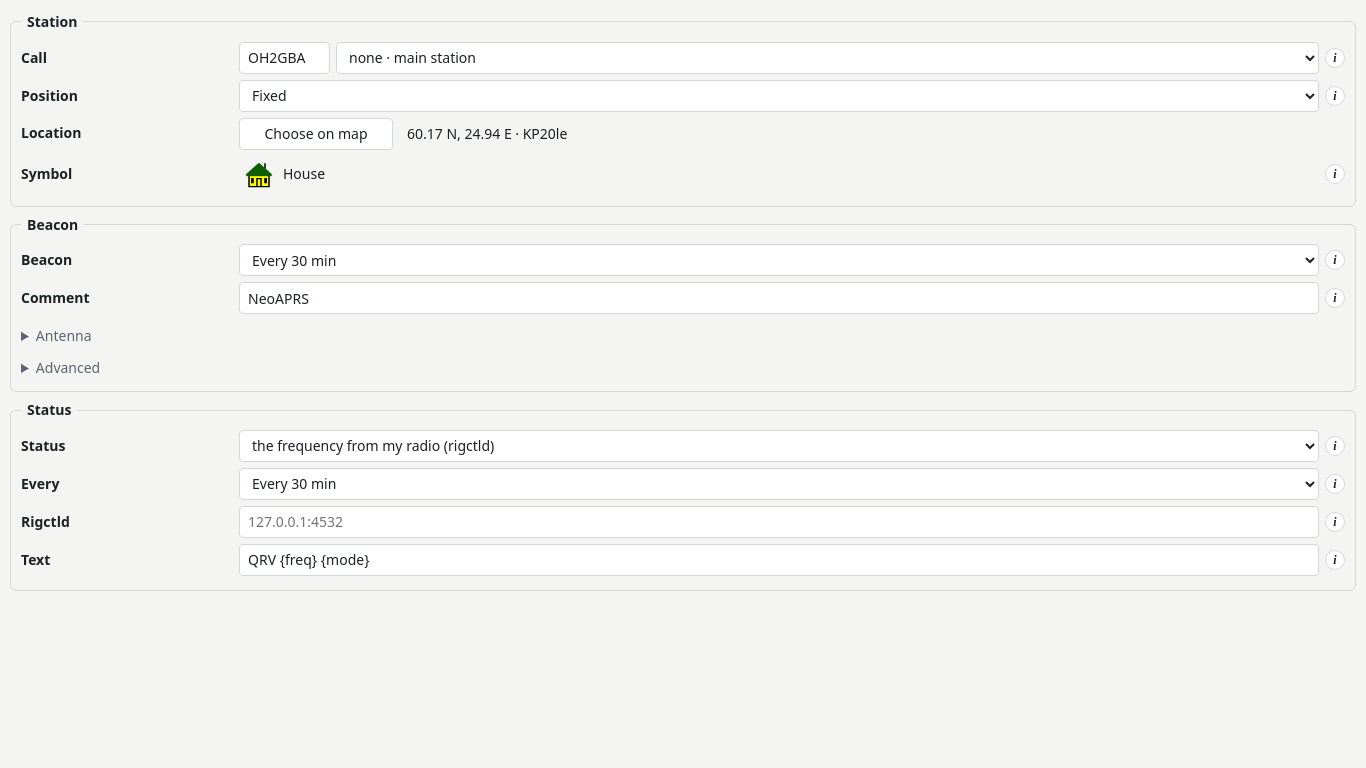
the (i) of a field › opens beside the field it explains and says what it is, with an example
Step 1. Click the button with class "info-toggle" in the row of "Text" → {"x": 1335, "y": 560}, box [1325,550,1345,570]
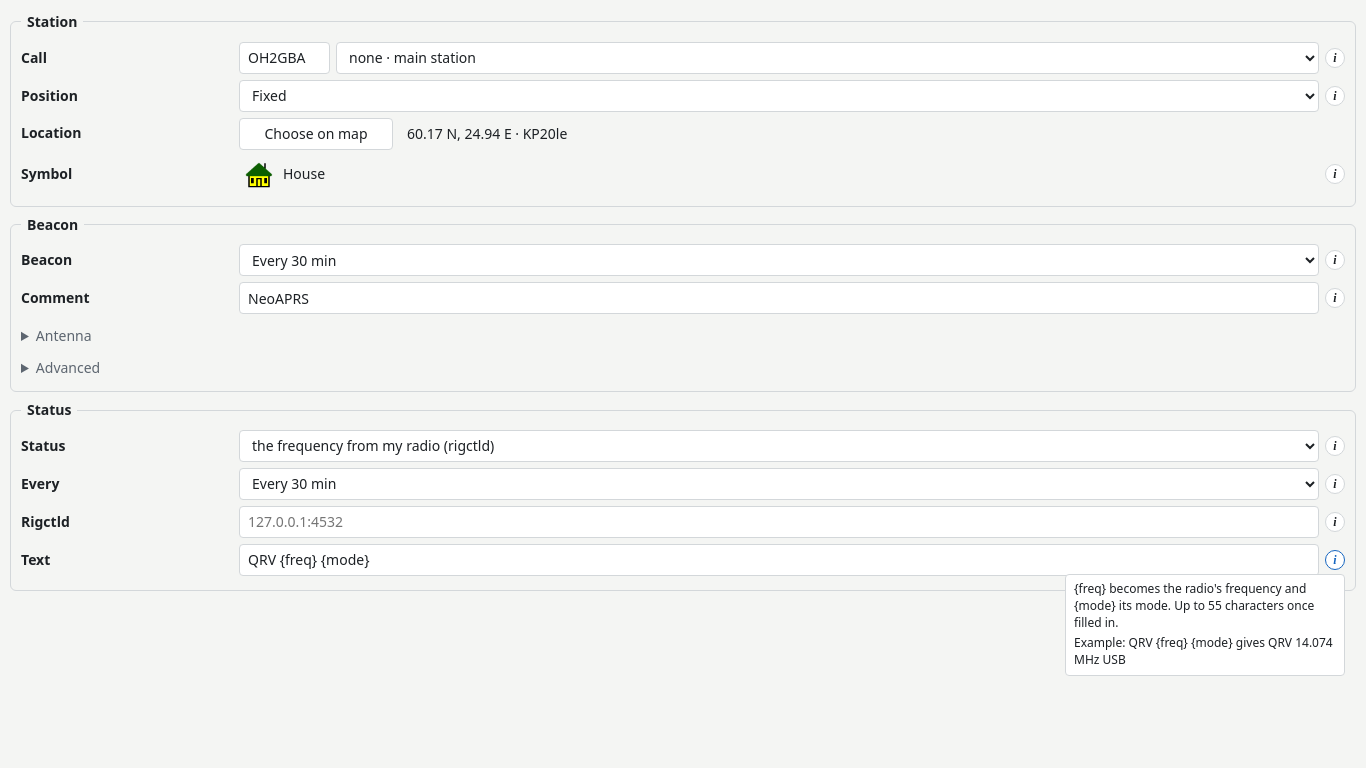
Result: the element with class "info-text" shows "{freq}" at [1074,580,1314,631]
Result: the element with class "info-text" shows "Example: QRV {freq} {mode} gives QRV 14.074 MHz USB" at [1074,634,1333,668]
